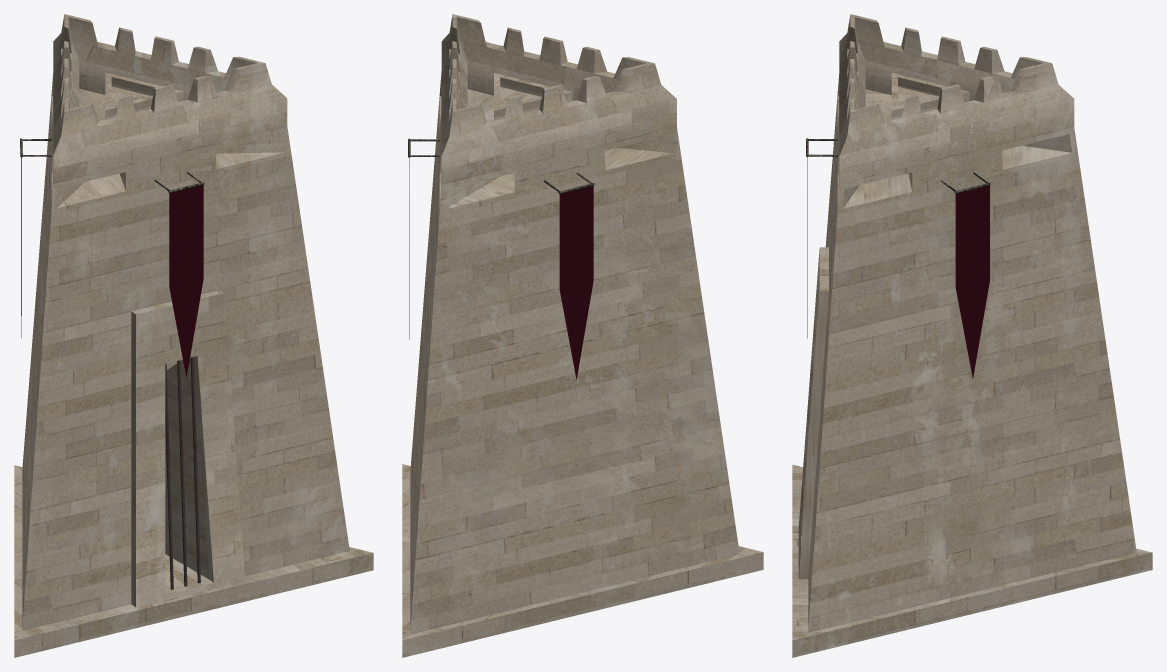
Rendered from RangerTower.fbx.
3 renders of one model, left to right at view 1: azimuth 30°, elevation 25°; view 2: azimuth 150°, elevation 25°; view 3: azimuth 270°, elevation 25°, orthographic.
Parts seen in each view (by area): view 1: BASE, Plane_3, Cylinder_2_5, Cylinder_1_4, Cylinder_4; view 2: BASE, Plane; view 3: BASE, Plane_2.
Part boxes in pixels (x1,y1,x2,y2): BASE: (14,14,373,657); Plane_3: (169,185,203,377); Cylinder_2_5: (177,360,187,586); Cylinder_1_4: (190,357,200,583); Cylinder_4: (165,363,173,589); BASE: (402,14,763,657); Plane: (559,185,593,379); BASE: (792,14,1152,657); Plane_2: (955,185,989,378).
Size of the model in its own units: 133 by 179 by 115.
1 material, 1 textured.
